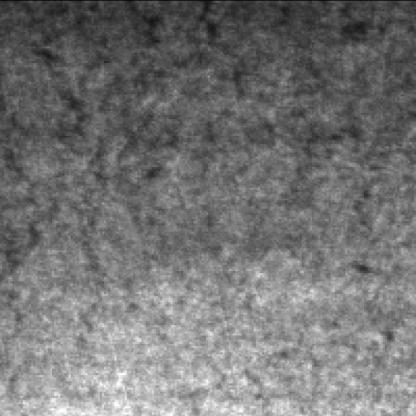crazing: (0, 2, 179, 281), (168, 2, 412, 196)
